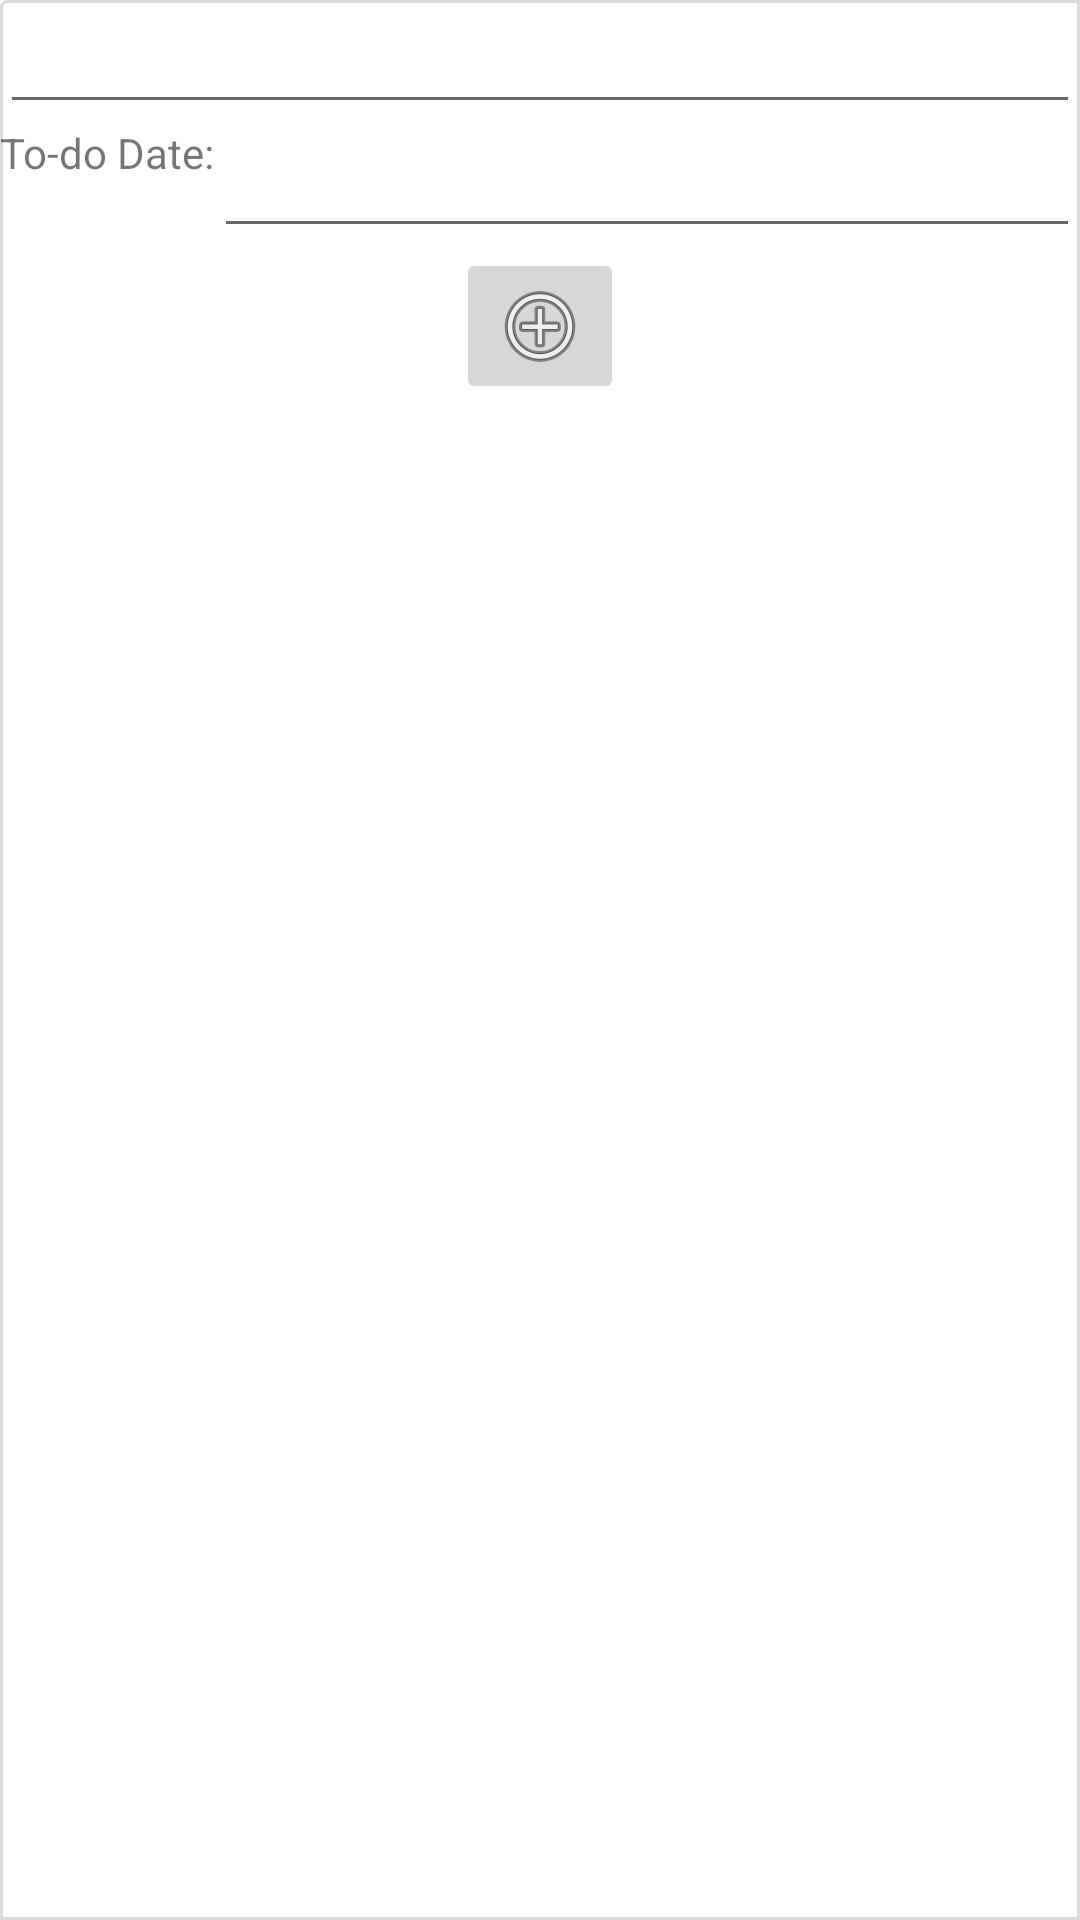

Icon click points for this 1080*1920 phone screenshot, format (x,y):
add: (540,326)
